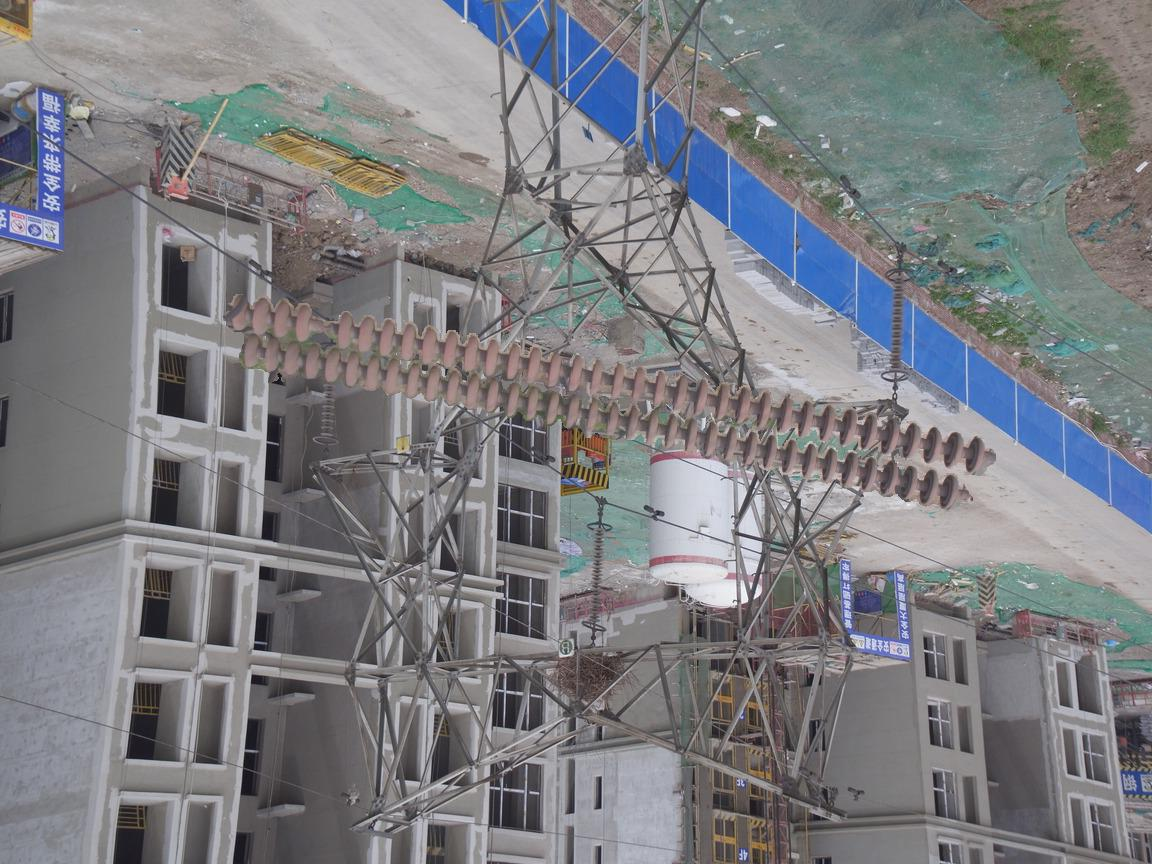insulator: (224, 292, 992, 514), (583, 527, 607, 623), (888, 272, 908, 369)
insulator_stringdrop: (290, 300, 357, 355)
